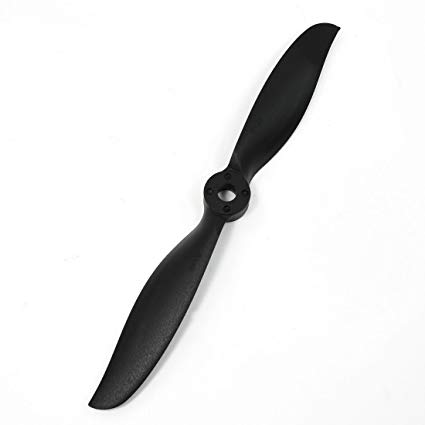Propeller: (67, 25, 346, 410)
